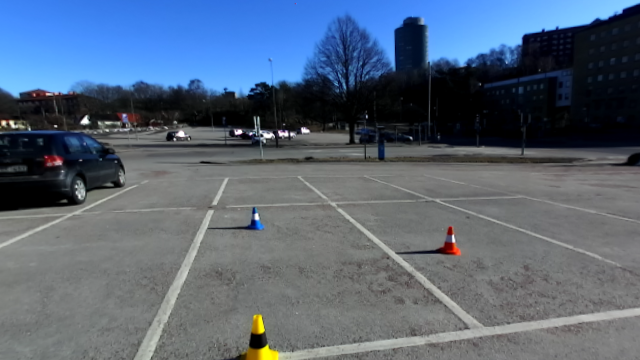blue: (246, 207, 267, 232)
orange: (436, 226, 463, 257)
yellow: (237, 313, 278, 360)
